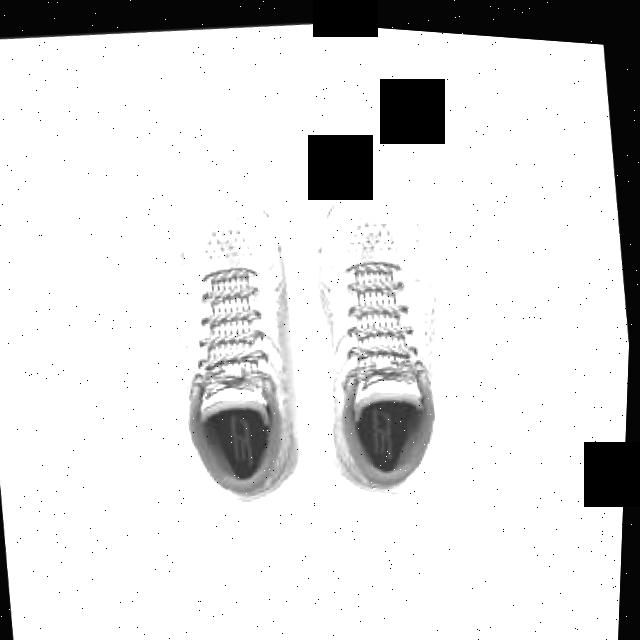shoe: (302, 171, 475, 498), (147, 180, 317, 507)
